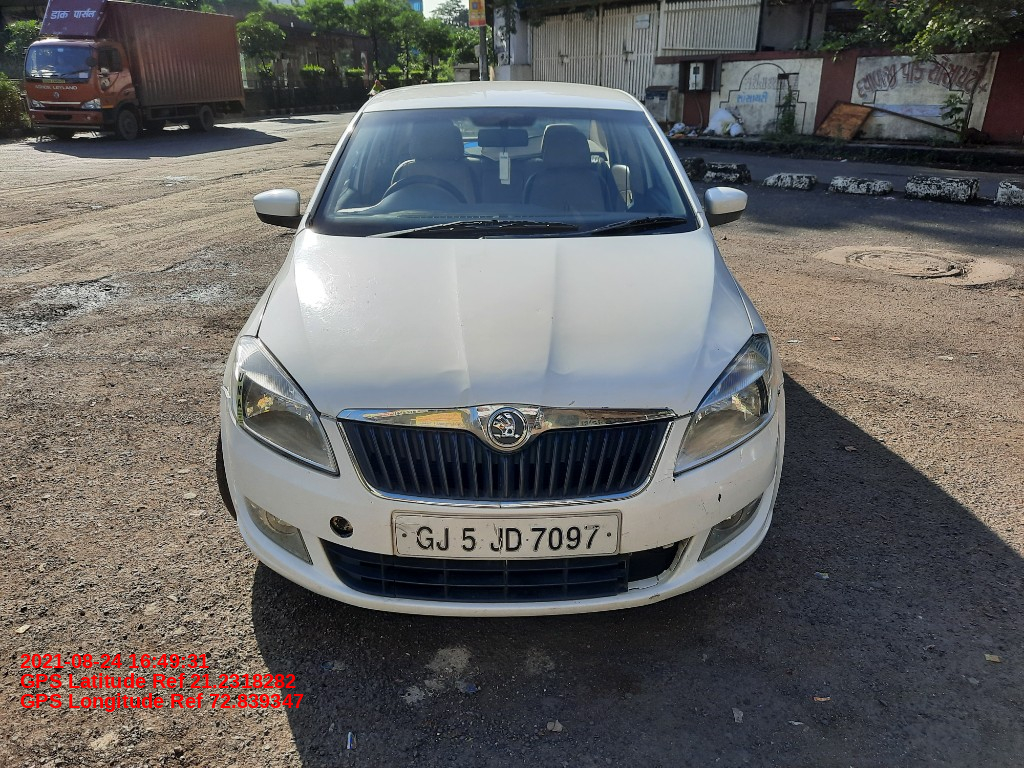Cracked: (623, 571, 668, 592)
Scratched: (433, 363, 477, 402), (542, 360, 585, 386), (710, 486, 727, 506), (648, 589, 664, 604)
